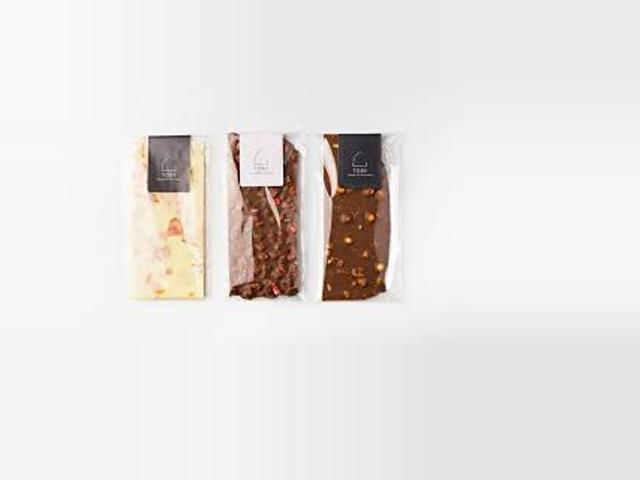chocolate: (313, 135, 417, 317)
